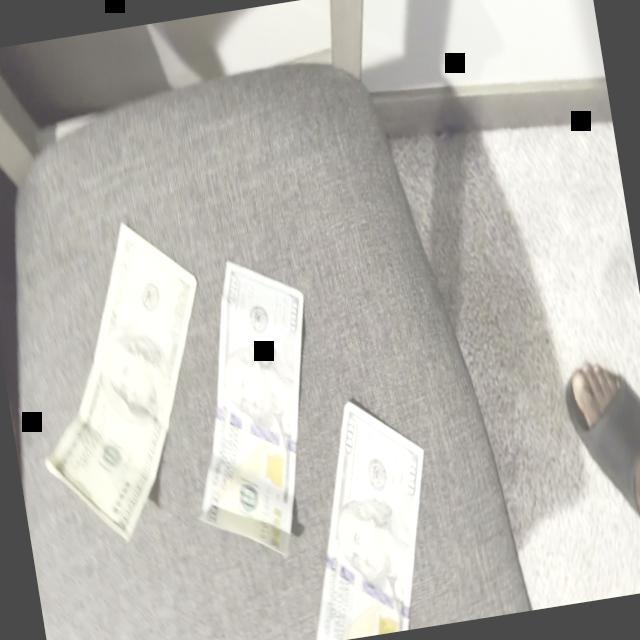hundred: (11, 208, 240, 554), (162, 246, 346, 569), (273, 388, 451, 640)
